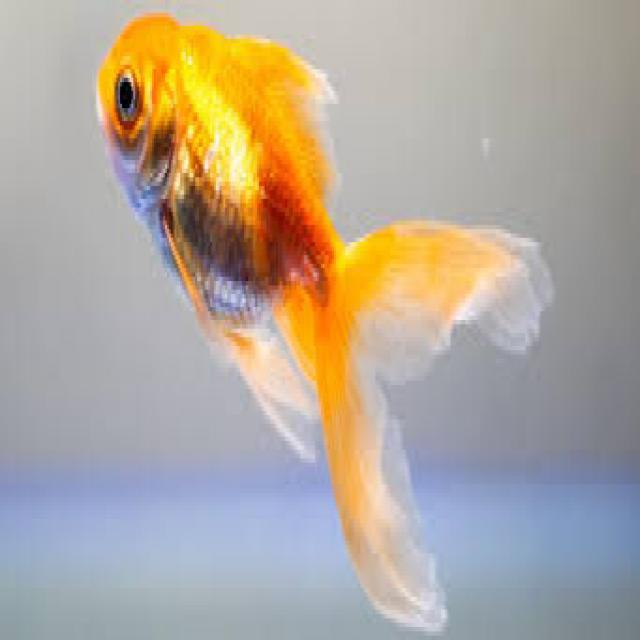goldfish: (89, 15, 573, 640)
